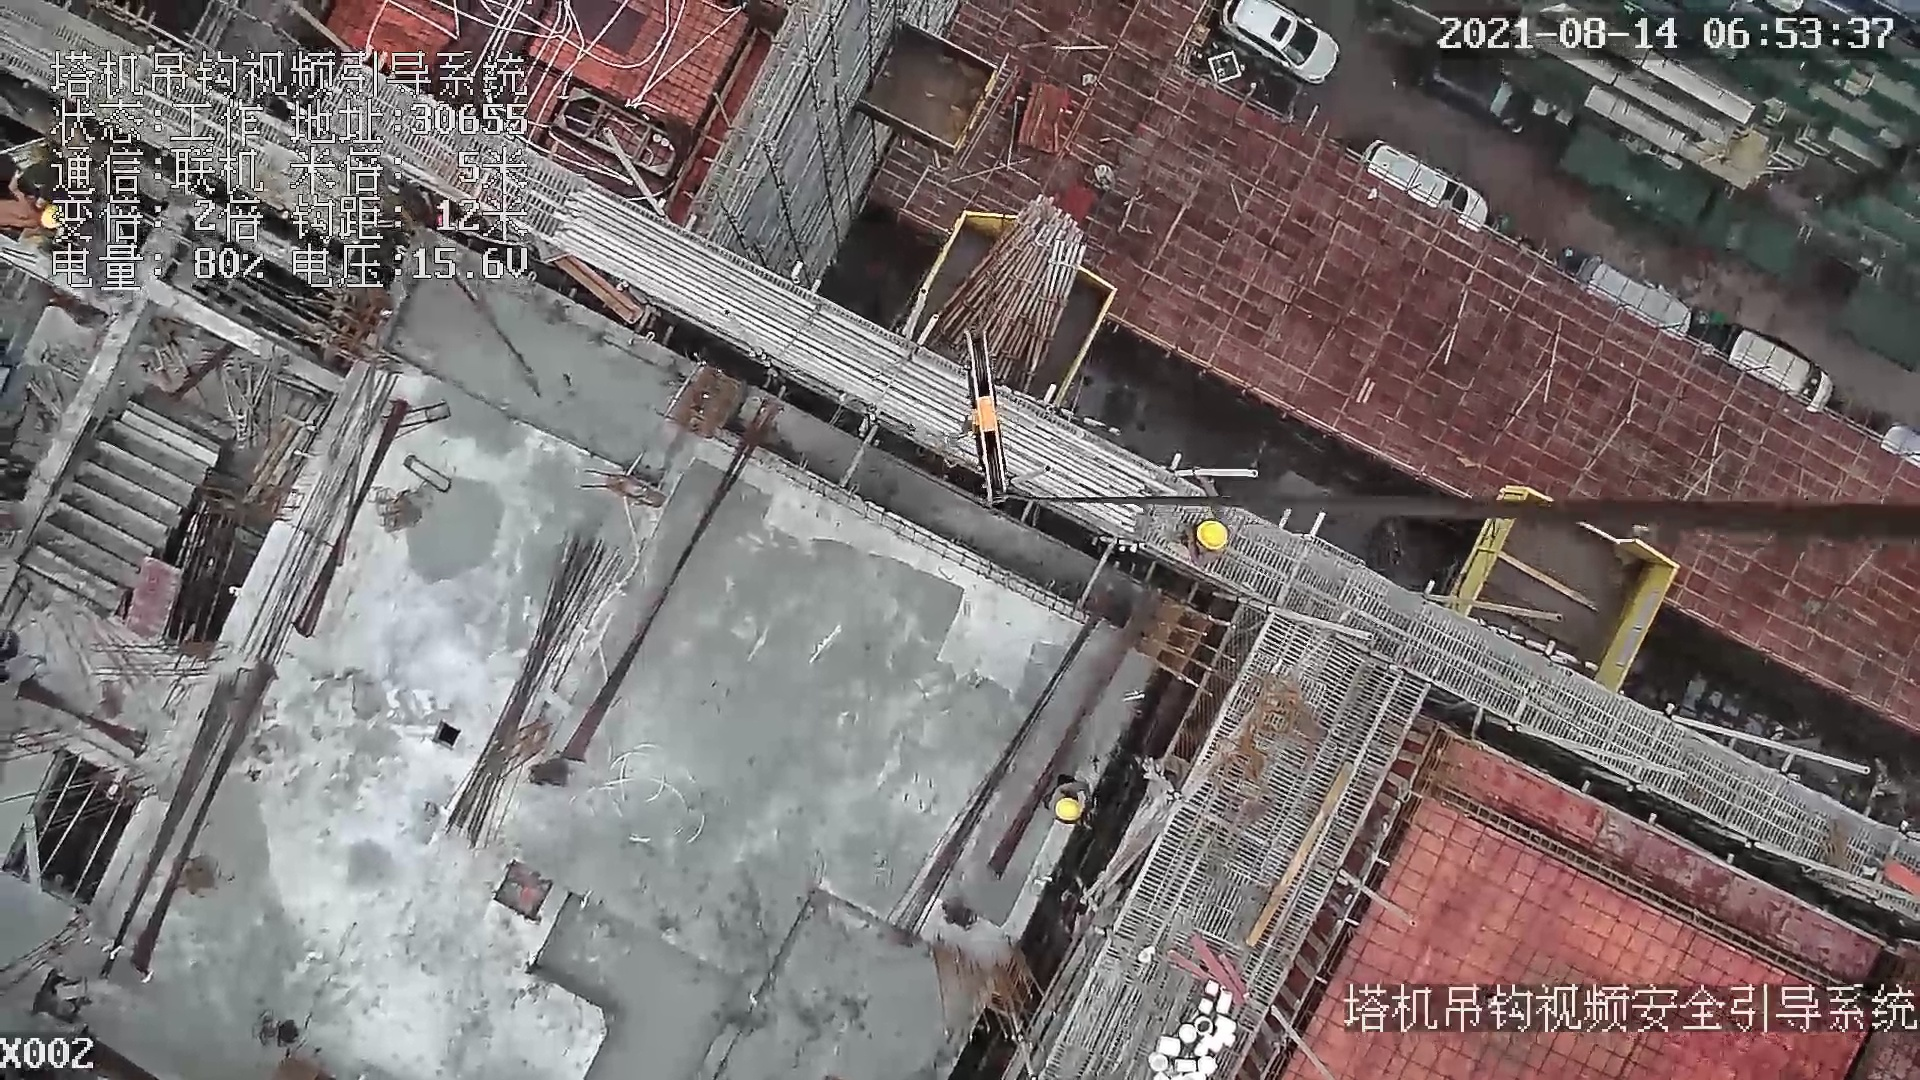helmet: (1197, 520, 1227, 550), (1054, 798, 1080, 822)
hook: (950, 314, 1023, 505)
person: (1182, 467, 1237, 565), (1046, 772, 1096, 824)
rebar: (550, 189, 1156, 535), (441, 536, 622, 849)
scaffold: (931, 194, 1086, 394)
